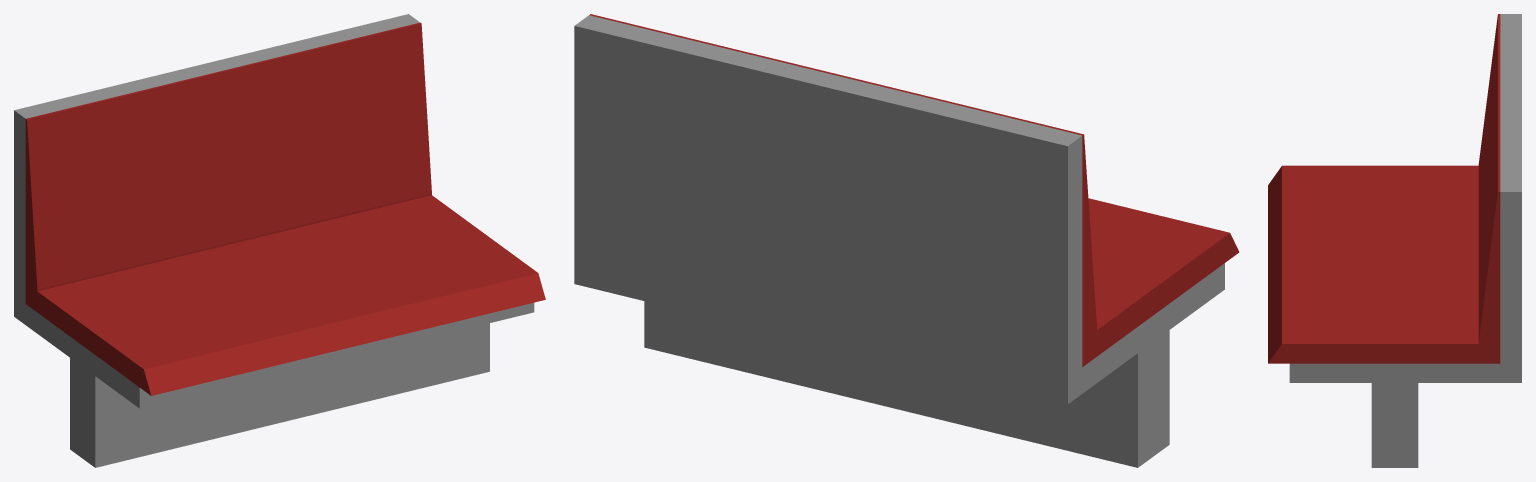
File: bar_couch.glb
3 views of the same model, side by side, from view 1: azimuth 30°, elevation 25°; view 2: azimuth 150°, elevation 25°; view 3: azimuth 270°, elevation 25° (orthographic). The views are drawn at different scales.
Visible parts, largest first — view 1: leather, metal; view 2: metal, leather; view 3: leather, metal.
Boxes of the visible parts, left/top/right/bottom form: leather: left=25, top=22, right=545, bottom=395; metal: left=14, top=14, right=534, bottom=467; metal: left=574, top=15, right=1224, bottom=467; leather: left=589, top=14, right=1239, bottom=366; leather: left=1268, top=14, right=1500, bottom=363; metal: left=1289, top=14, right=1521, bottom=467.
Size of the model in its own units: 0.9 by 0.65 by 0.5423.
